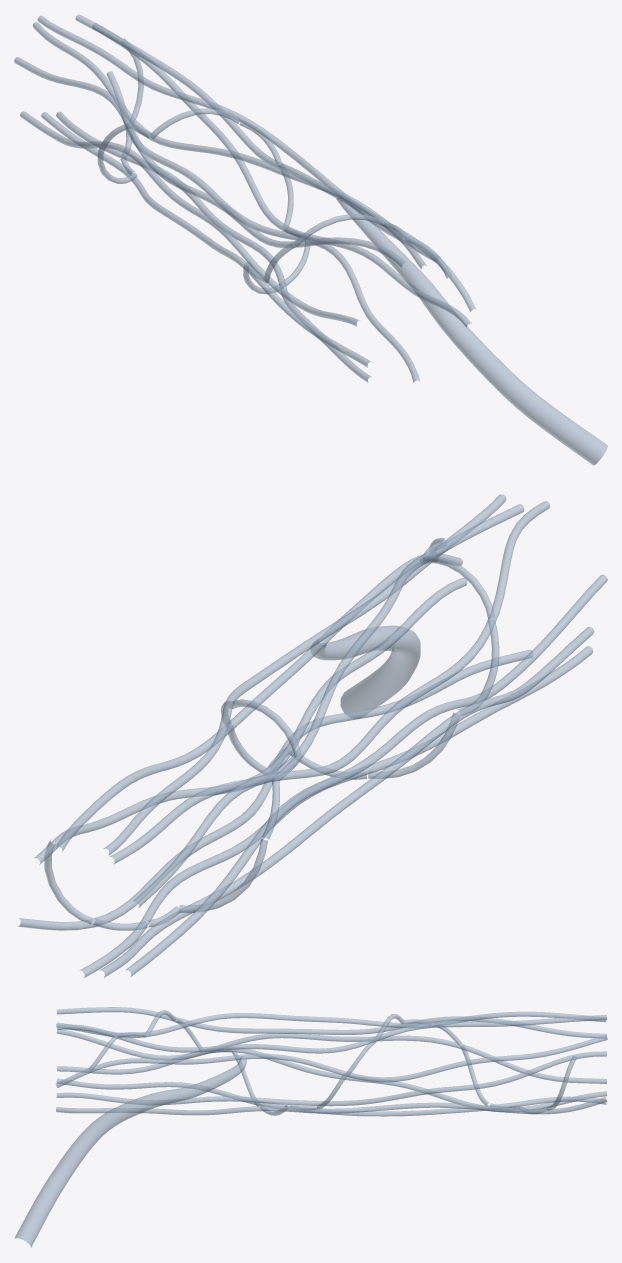
File: s3_vasoconstriction.glb
The picture shows the model from 3 angles, top to bottom: view 1: azimuth 30°, elevation 25°; view 2: azimuth 150°, elevation 25°; view 3: azimuth 270°, elevation 25°; orthographic projection. The views are drawn at different scales.
Visible parts, largest first — view 1: capillaries; view 2: capillaries; view 3: capillaries.
Part boxes in pixels (x1,y1,x2,y2): capillaries: [14, 14, 607, 465]; capillaries: [18, 494, 607, 977]; capillaries: [14, 1007, 607, 1247].
Bounding box in the file's own units: 1.51 × 1.42 × 4.32.
